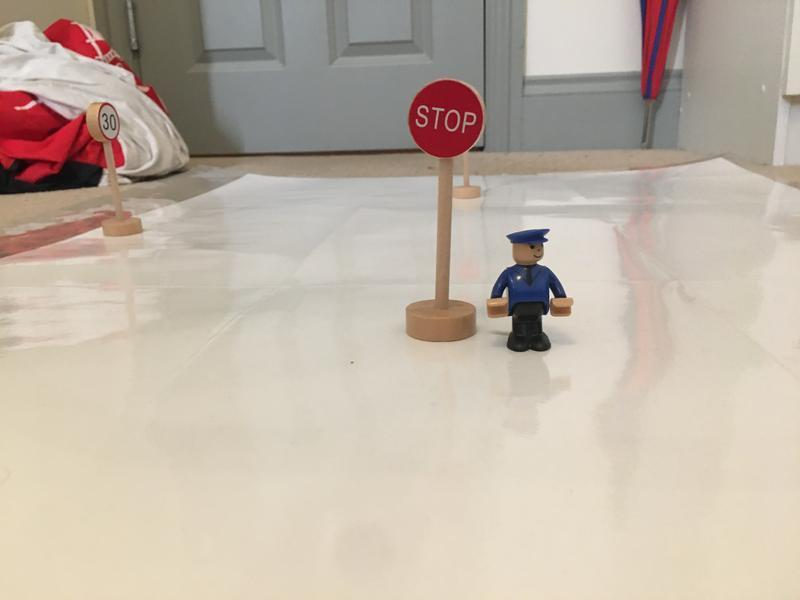Traffic_Sign_30: (98, 101, 120, 141)
Traffic_Sign_Stop: (407, 79, 485, 160)
person: (480, 226, 576, 356)
